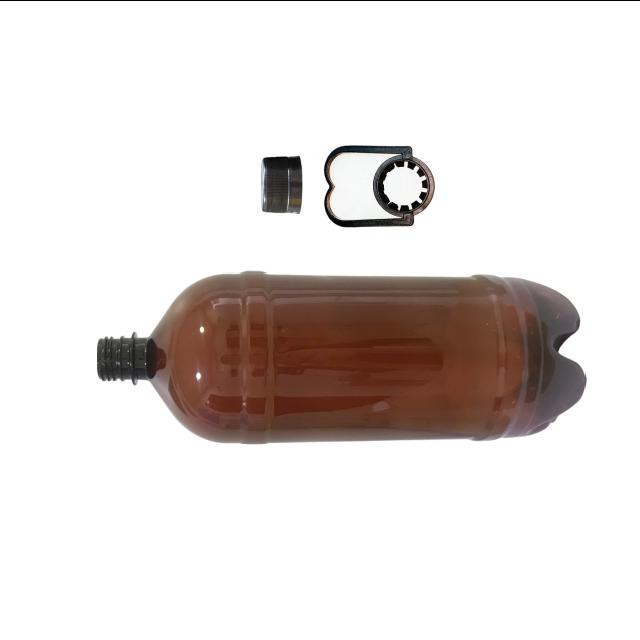bottle: (97, 272, 585, 443)
